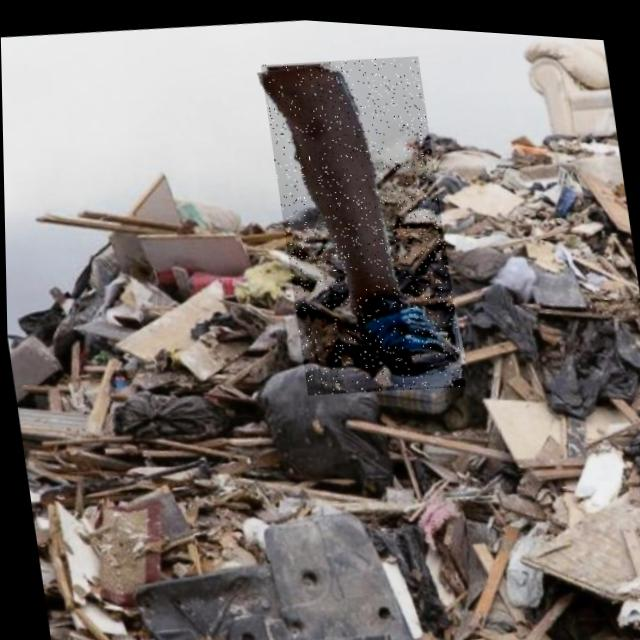Person in Rubble: (260, 42, 464, 399)
